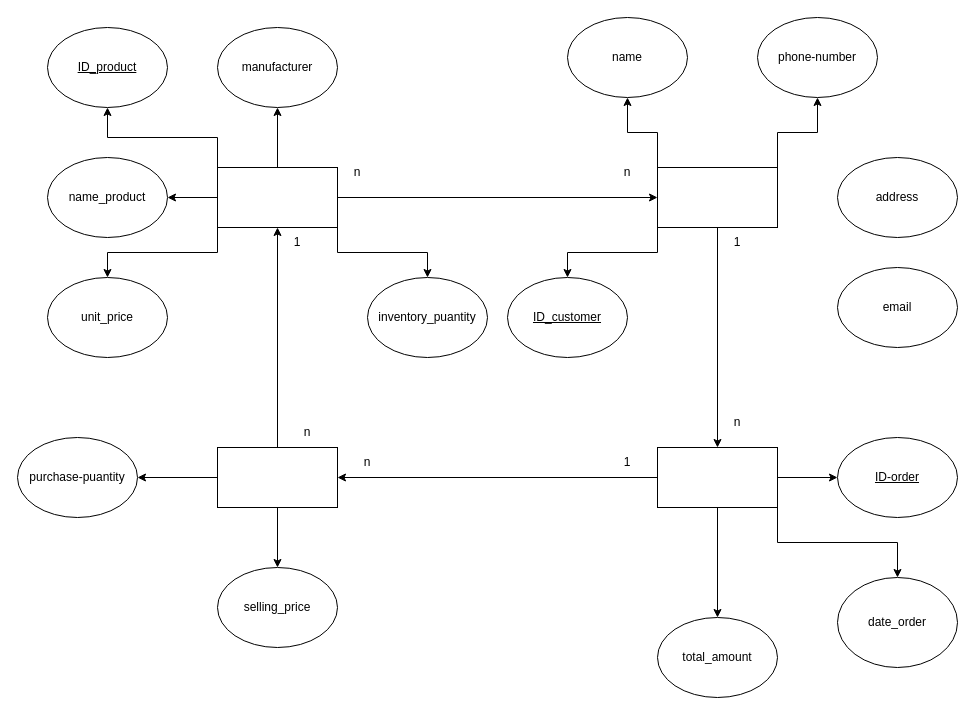
This 975x715 diagram has some shape labels left out. Here are the shapes that lost their labels. From the top down, the centre of each, then its label:
the point at 277,197: product
the point at 717,197: customer
the point at 277,477: order_detail
the point at 717,477: order
